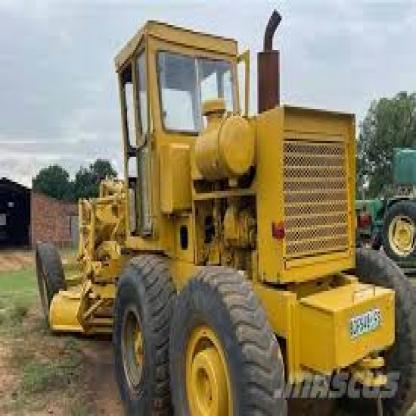bull_dozer/loader/grader: (17, 7, 404, 414)
